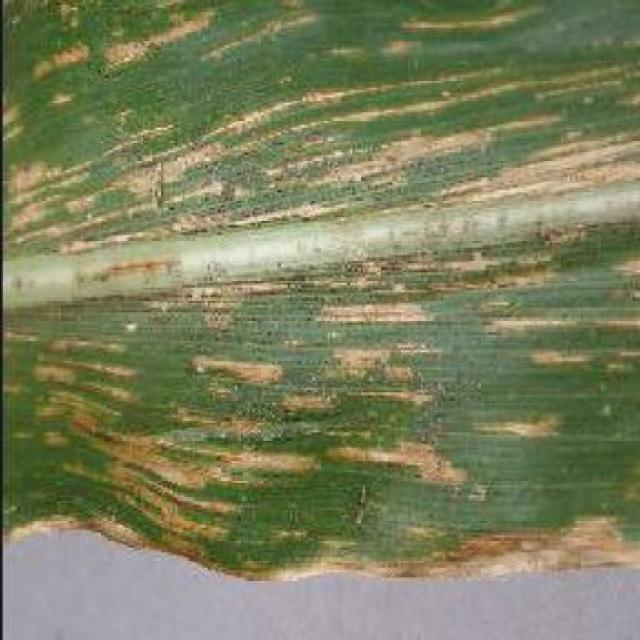Corn_Grey_Leaf_Spot: (9, 0, 640, 580)
